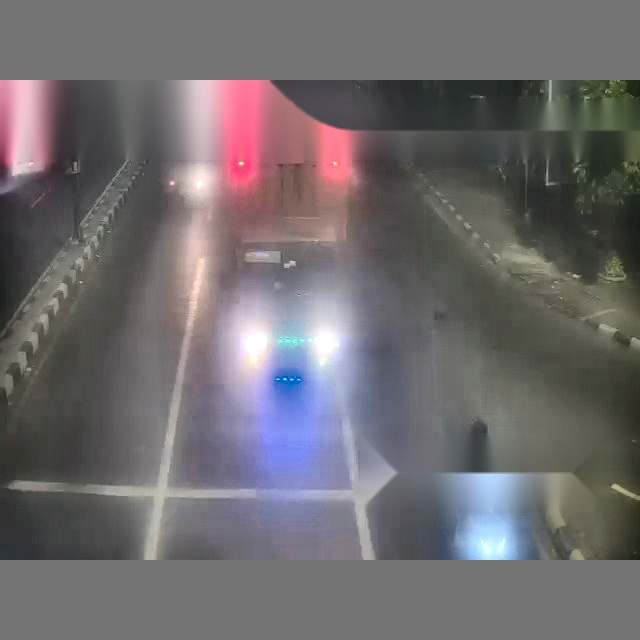Truk: (0, 80, 58, 192)
